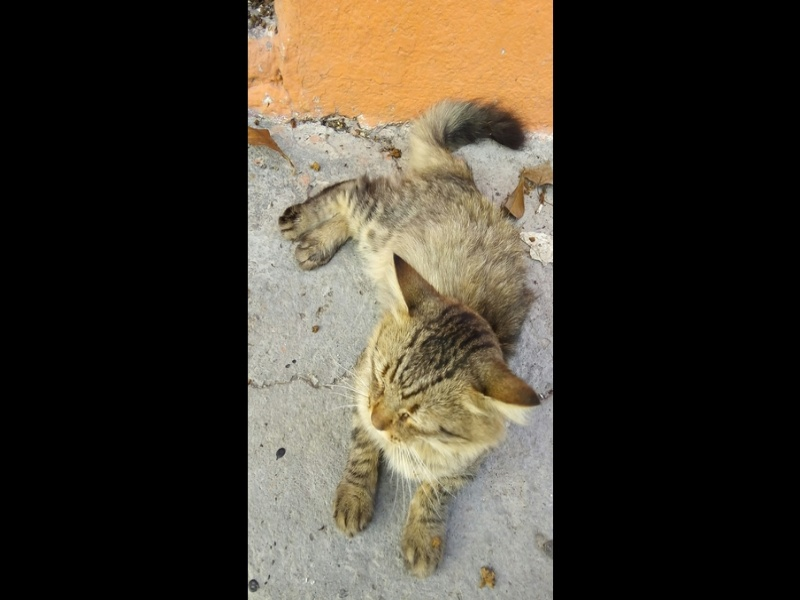cat: (281, 80, 543, 567)
